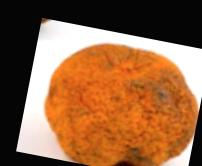Orange Rotten: (32, 26, 202, 166)
